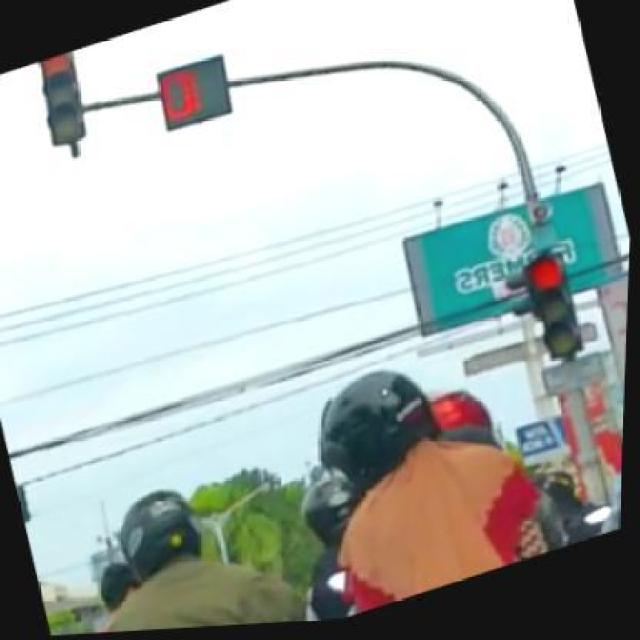Traffic Light -Red-: (523, 249, 586, 368), (34, 39, 91, 148)
